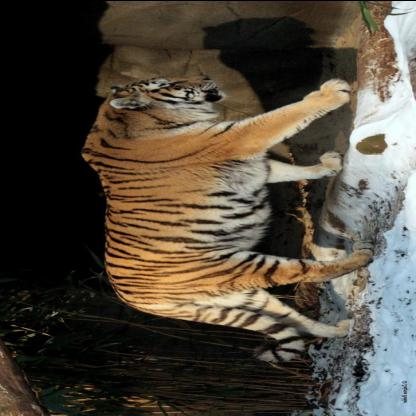tiger: (95, 72, 227, 114)
